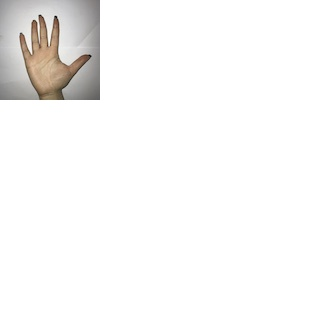paper: (14, 11, 91, 94)
